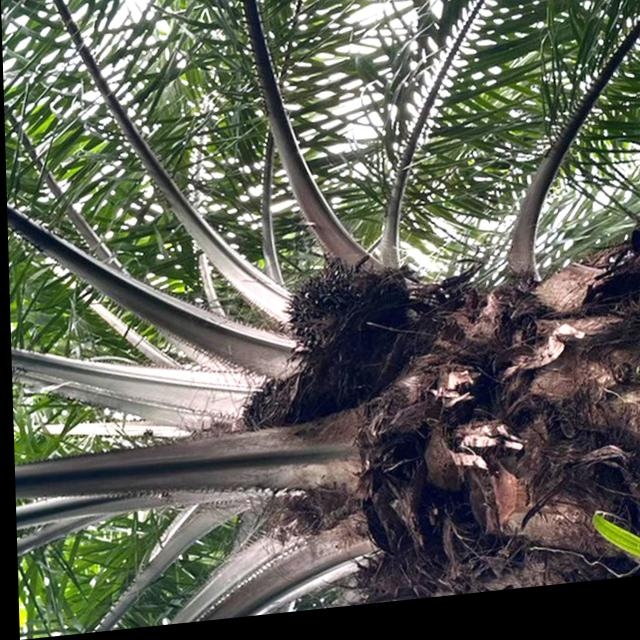unripe: (277, 260, 377, 369), (230, 372, 327, 442)
